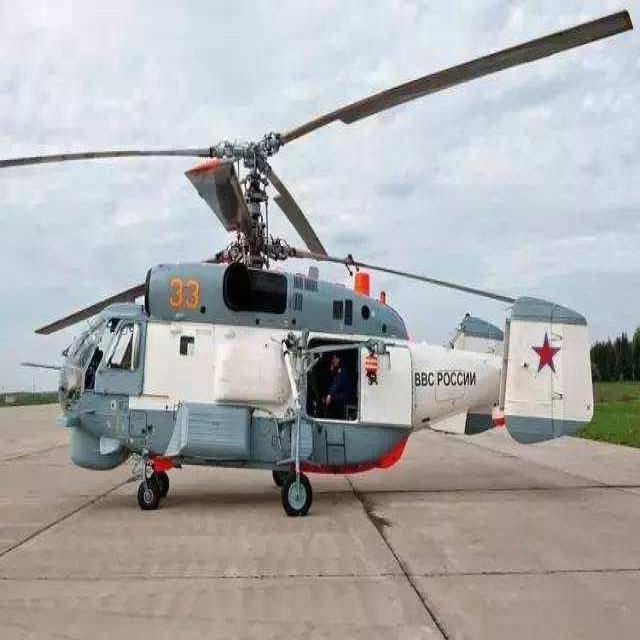MIL_HELO: (0, 9, 639, 522)
